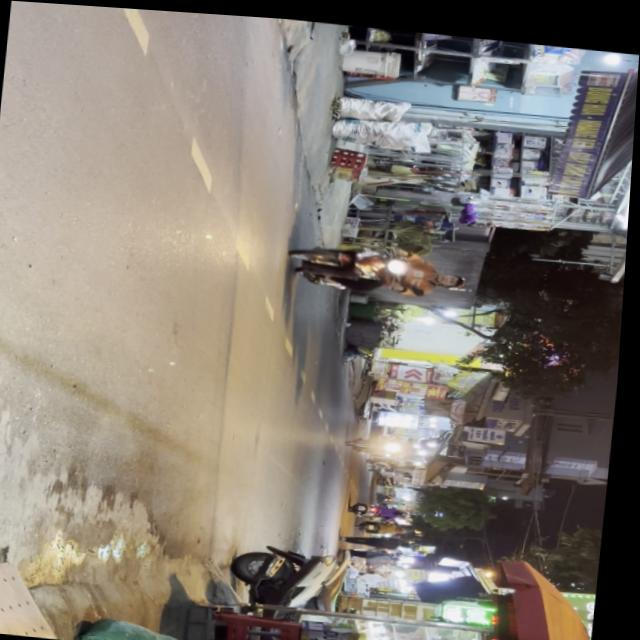helmet: (441, 263, 474, 281)
licenseplate: (289, 231, 477, 296)
